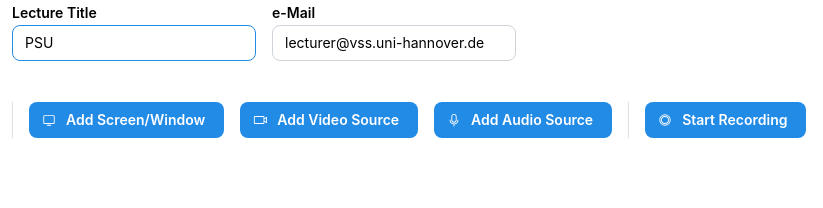
Test: the menu behind rc-btn-addaudio stays open after a refresh that only listed devices
Click the button with test id "rc-btn-addaudio".
click(523, 120)  # box [434,102,612,138]
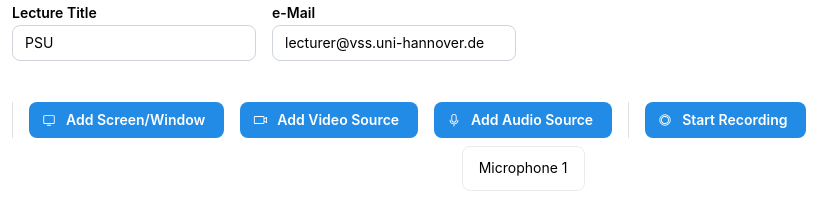
expect the menu item "Microphone 1" is shown: met, box [467,151,580,186]
